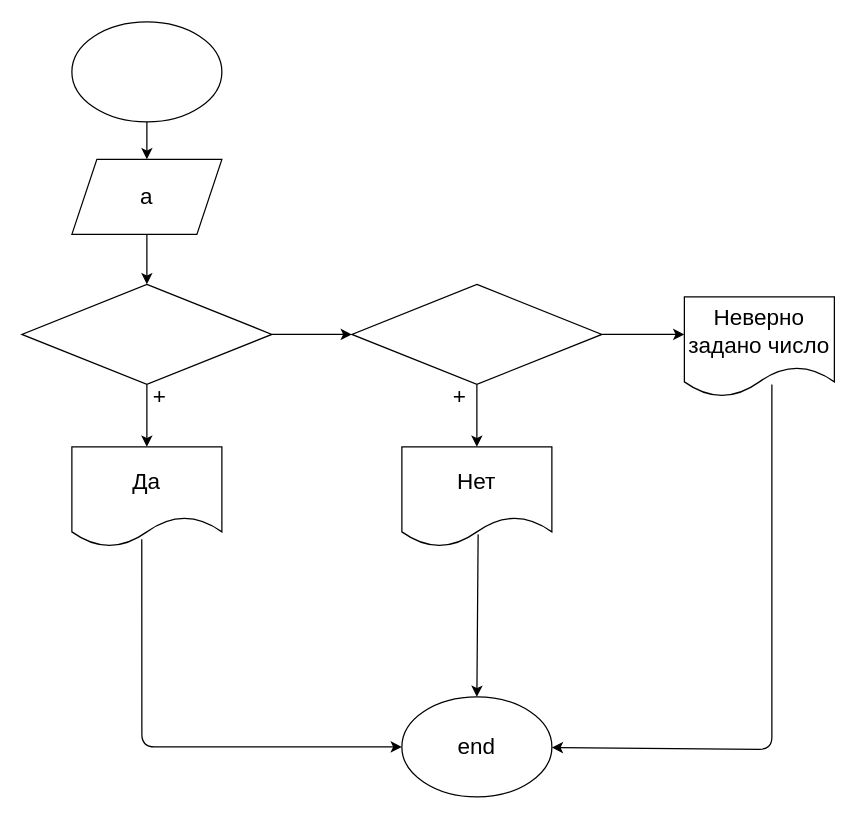
This 856x819 diagram has some shape labels left out. The centre of each missing label's shape, as x and y in pixels:
a > 0 && a <= 5: pixel 476 333
a > 5 && a < 8: pixel 146 333
start: pixel 146 71
